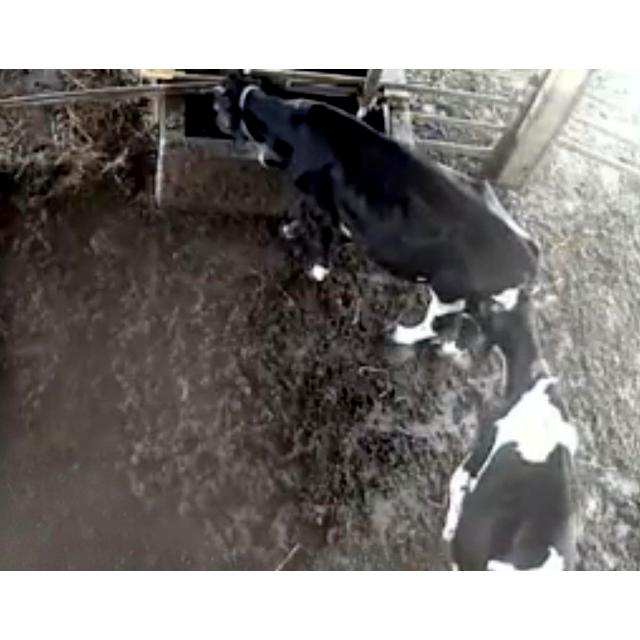drink: (192, 70, 331, 156)
